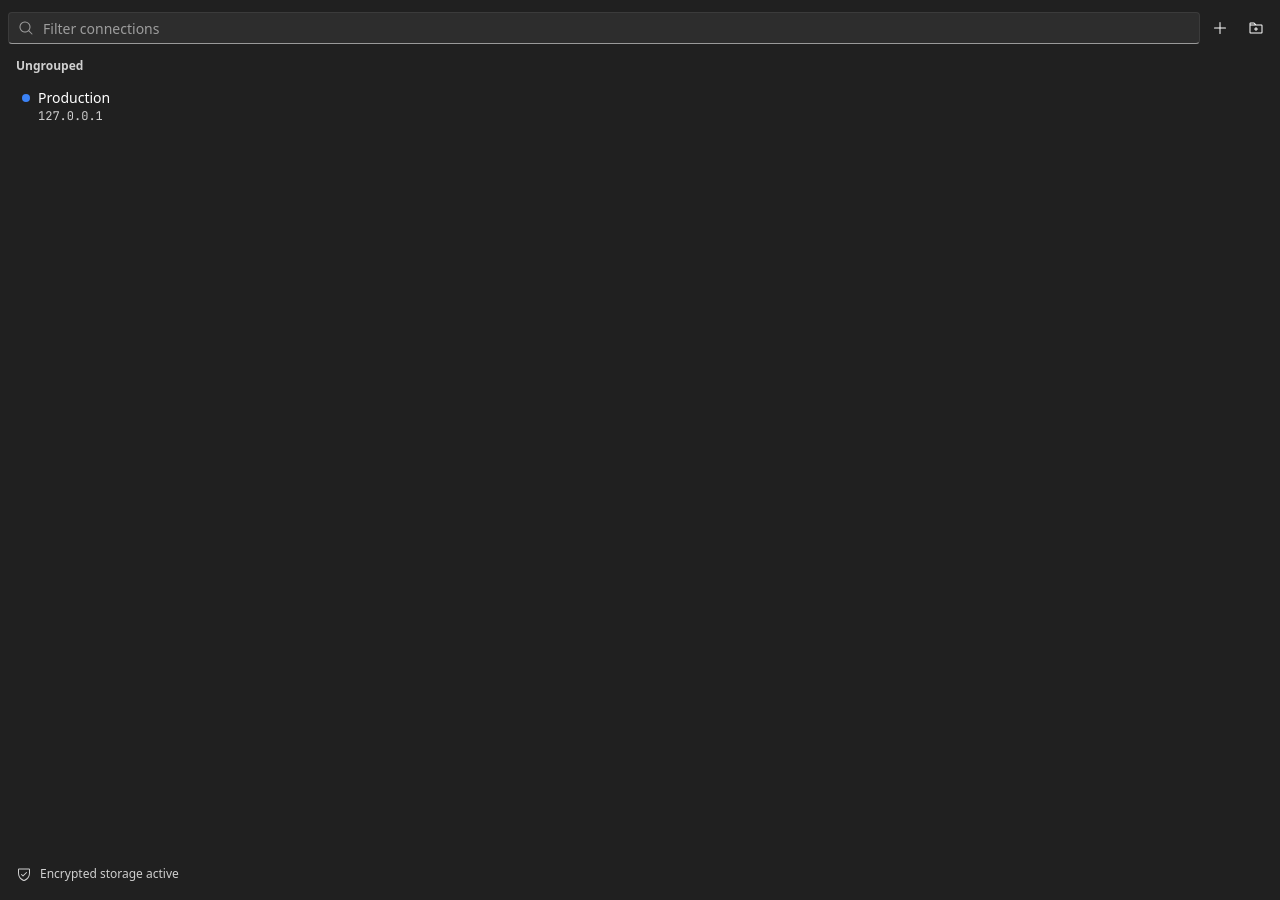
Scenario: SavedConnectionsList › quick filter › shows a no-results message when nothing matches
In the field with test id "connection-filter-input": (604, 28) [8, 12, 1200, 44], type "zzzznomatch"
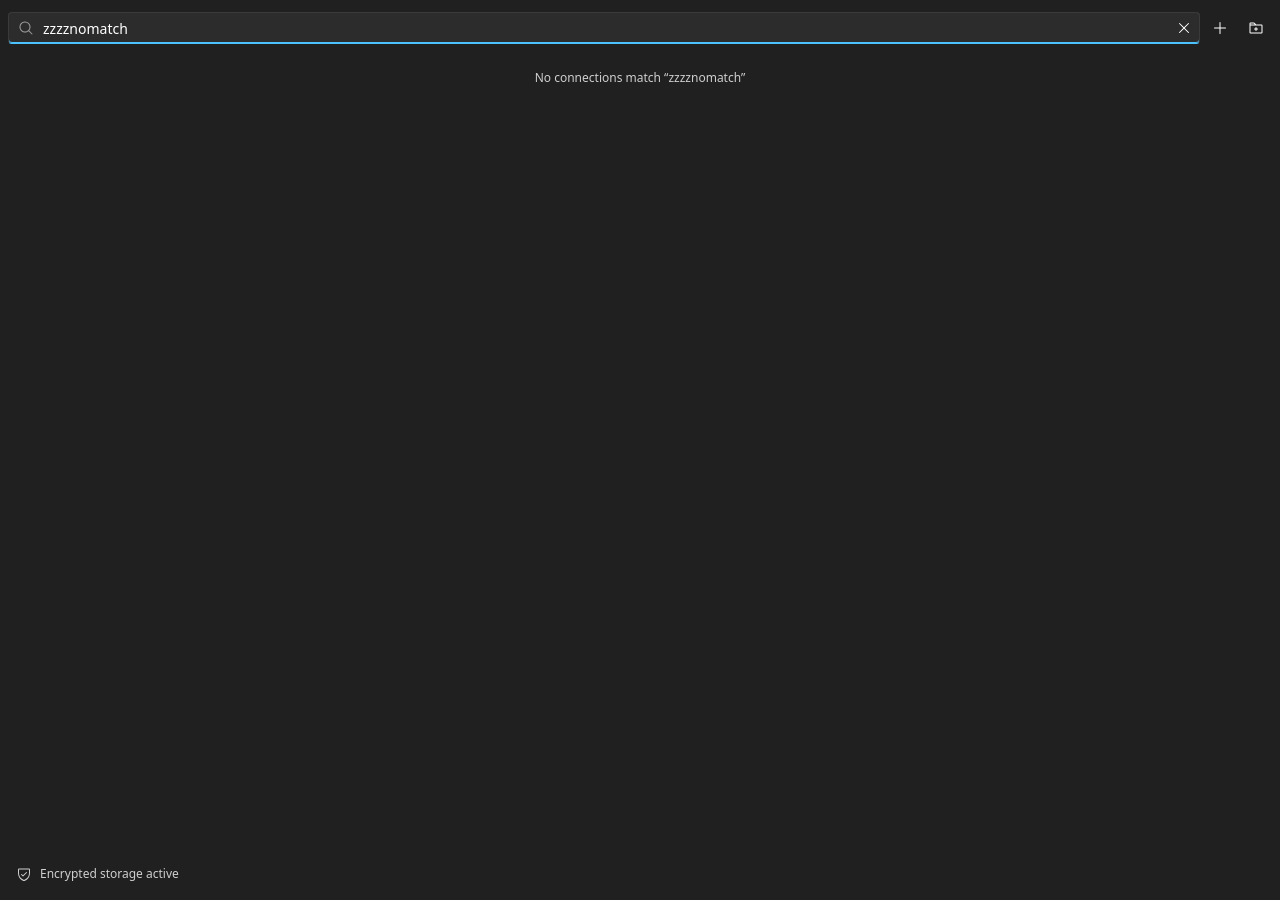
Expected: the button "Production" is gone
Expected: the text "No connections match “zzzznomatch”" is shown, [535, 69, 745, 86]
